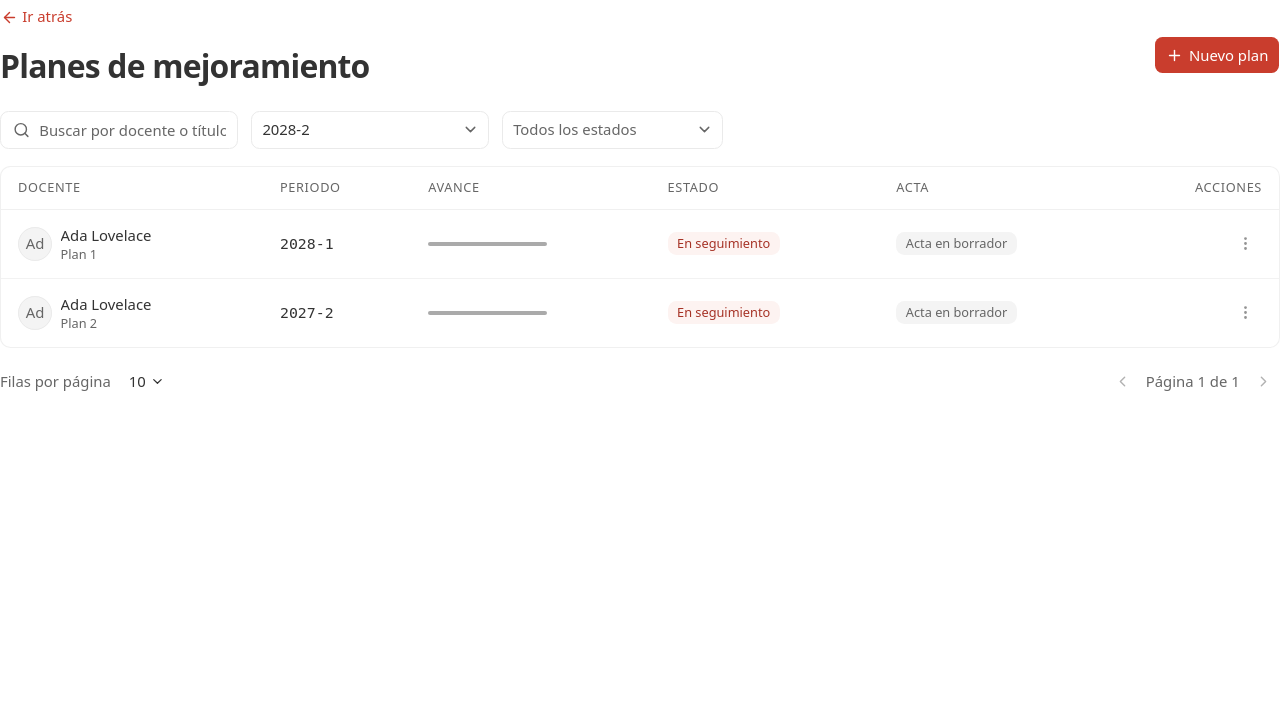
Scenario: PlansPage · eliminar un plan › pide confirmación nombrando el plan y el docente
Click the button named "Acciones" in the row of "Plan 1" at (1245, 244), box [1228,227,1262,261]
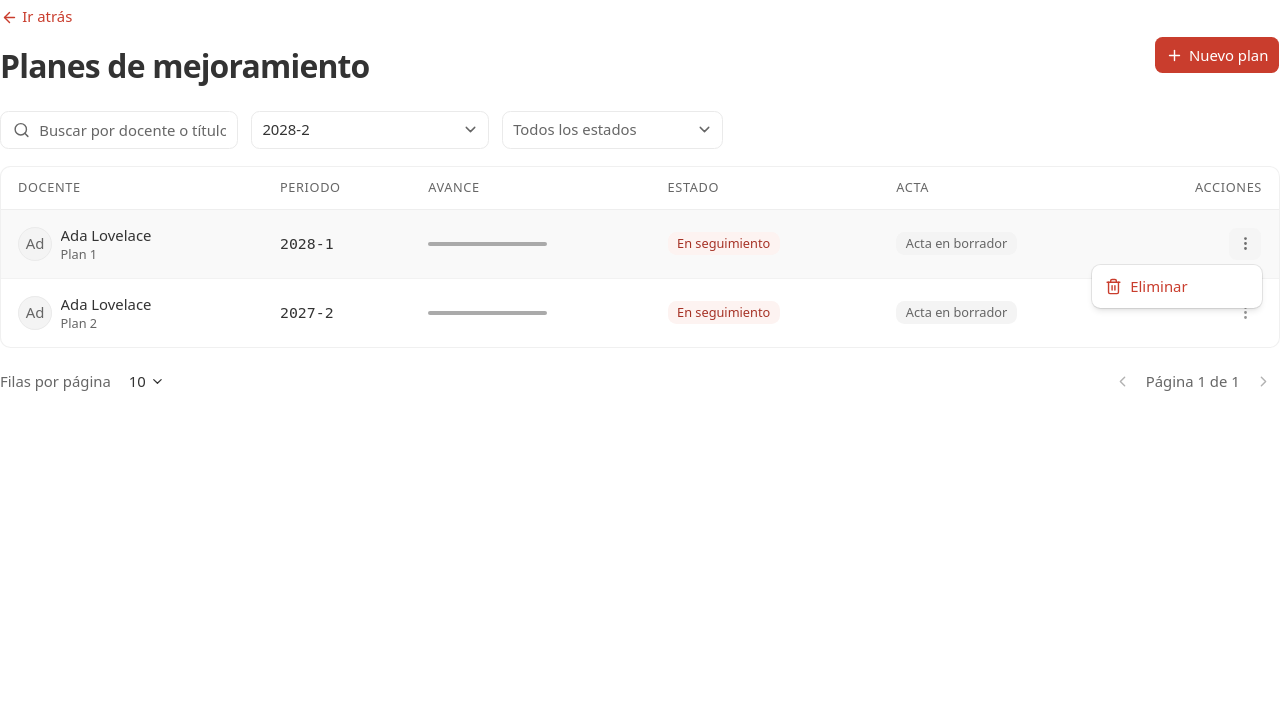
Click the menu item "Eliminar" at (1146, 286), box [1105,276,1188,296]
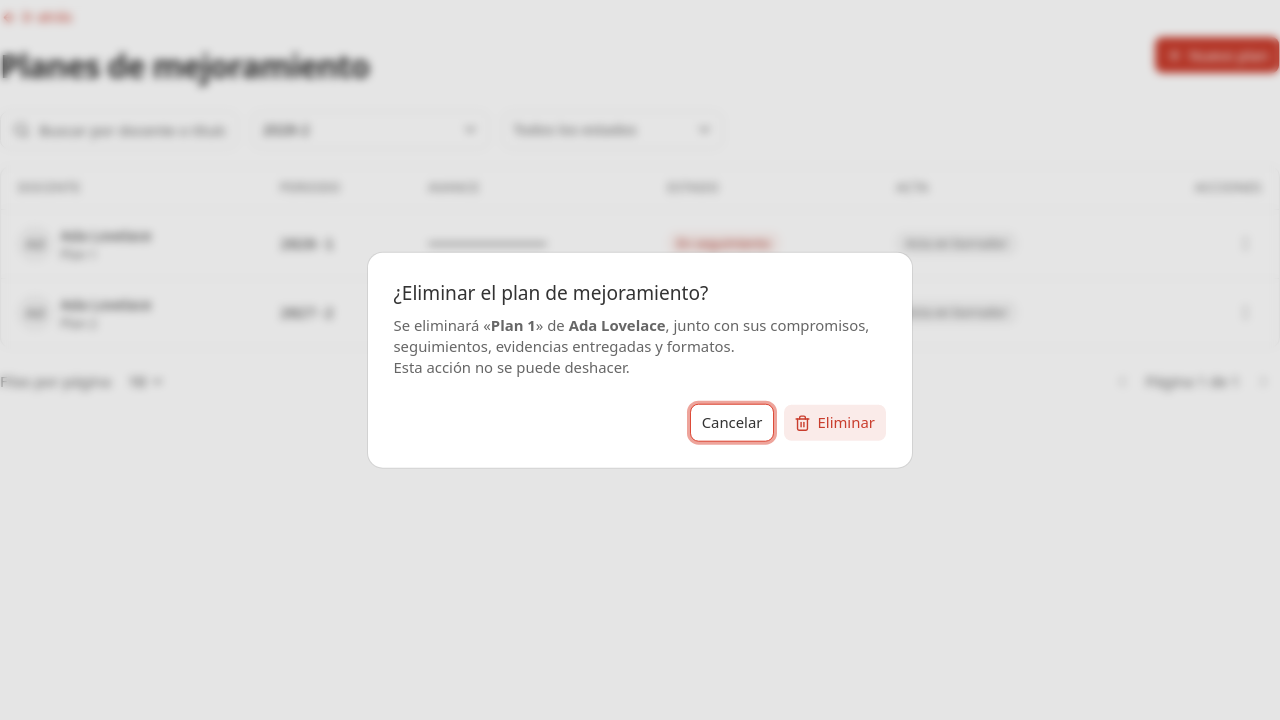
Result: the dialog shows "Ada Lovelace" at [569,314,666,334]
